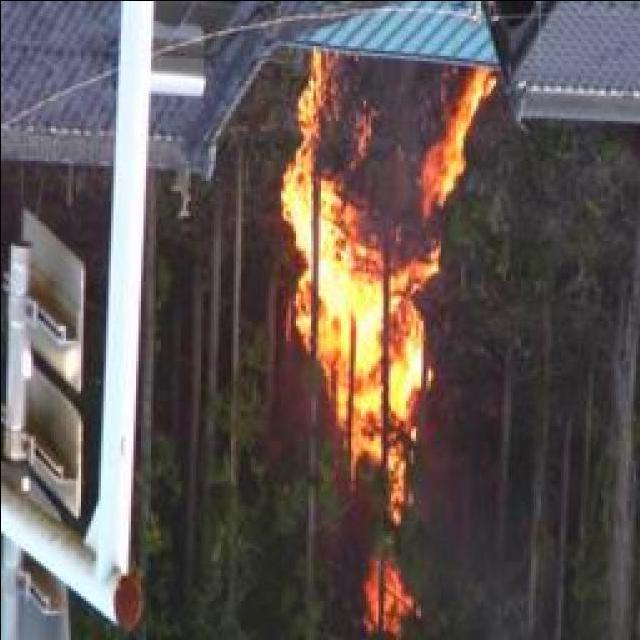Fire: (279, 61, 488, 506)
